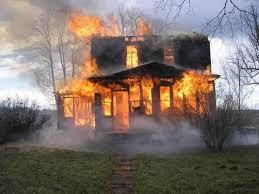fire: (124, 43, 138, 66)
